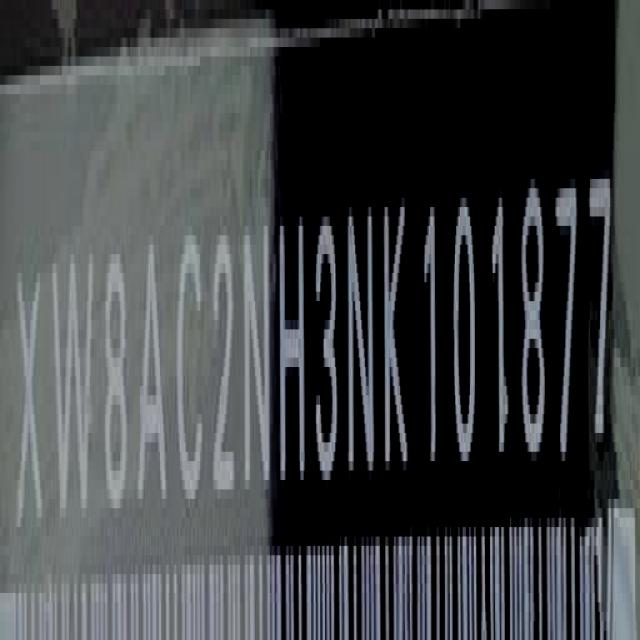0: (452, 183, 480, 475)
1: (422, 182, 442, 484), (488, 180, 508, 467)
2: (211, 219, 239, 512)
3: (315, 200, 340, 492)
7: (557, 171, 582, 473), (589, 162, 613, 470)
8: (522, 179, 549, 473), (106, 246, 130, 522)
A: (137, 234, 166, 514)
C: (178, 220, 207, 511)
H: (280, 203, 307, 497)
K: (383, 181, 409, 478)
N: (346, 189, 376, 494), (244, 206, 274, 505)
W: (54, 242, 96, 533)
X: (16, 260, 45, 544)
